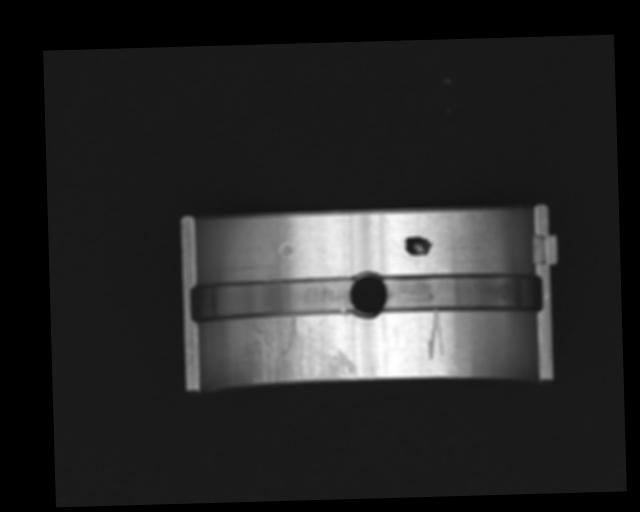blot: (404, 234, 434, 256)
bruise: (278, 241, 293, 260)
gap: (188, 276, 355, 324), (384, 272, 543, 314)
hole: (349, 270, 388, 318)
nick: (425, 308, 445, 359)
scratch: (247, 313, 357, 385)
